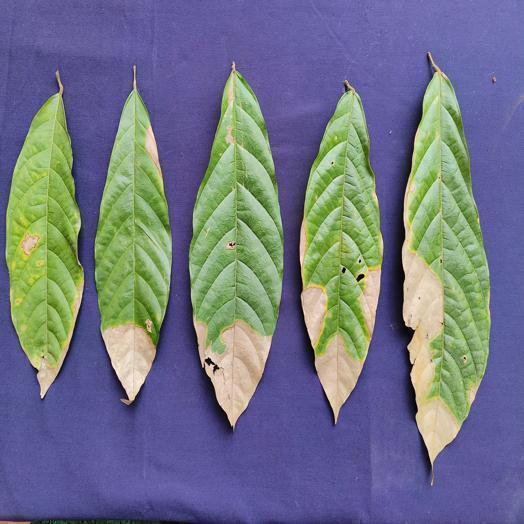Potassium: (403, 53, 490, 467), (189, 64, 283, 427), (301, 81, 382, 422), (95, 66, 171, 404), (6, 72, 83, 397)
